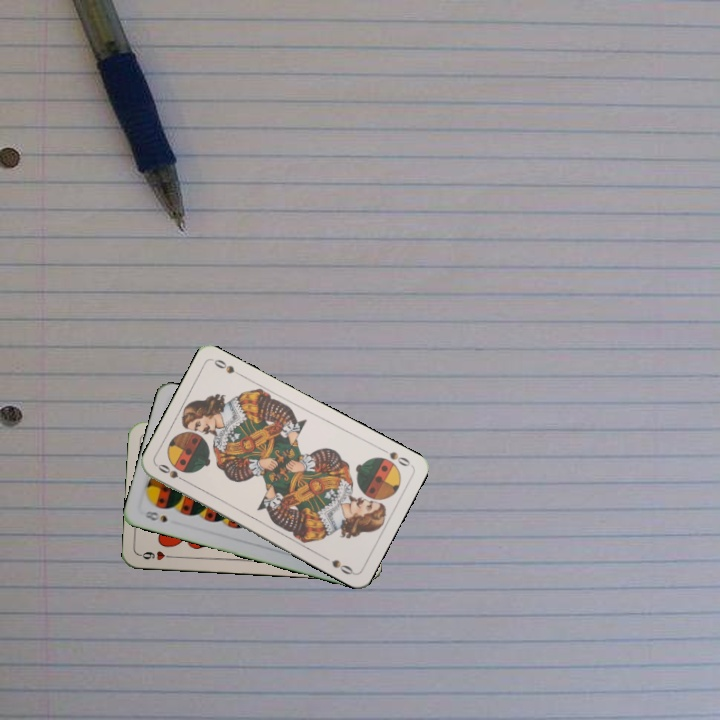H9: (136, 547, 177, 563)
S8: (141, 507, 170, 525)
SO: (154, 460, 191, 486), (376, 444, 413, 469)
